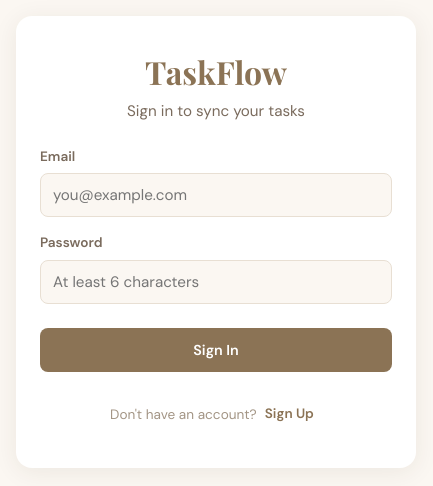
Test: Auth component › shows success message after sign-up
Click the button "Sign Up": {"x": 289, "y": 414} [257,392,322,436]
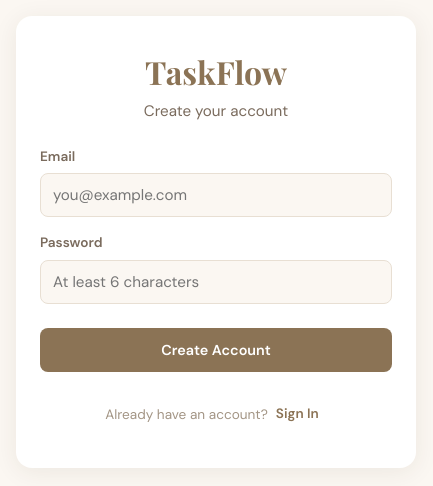
In the field labelled "Email": {"x": 216, "y": 195} [40,173,392,217], type "new@example.com"
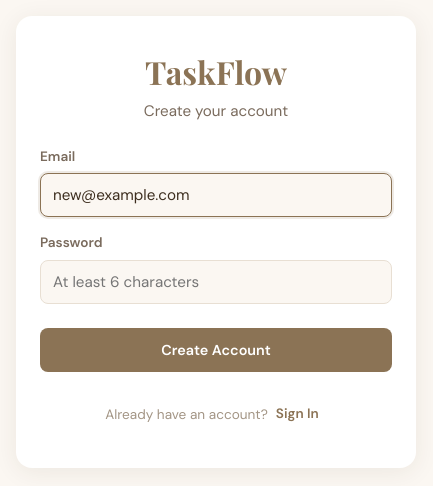
In the password field labelled "Password": {"x": 216, "y": 282} [40,260,392,304], type "password123"
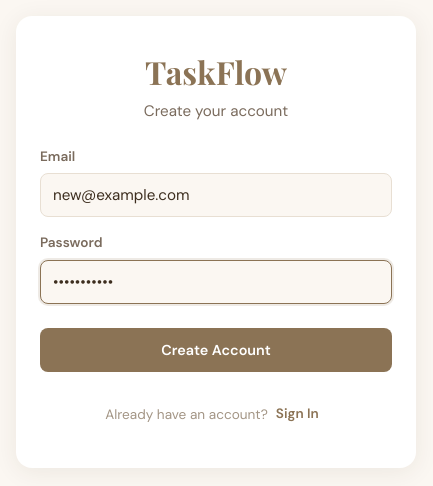
Click the button "Create Account": {"x": 216, "y": 350} [40,328,392,372]
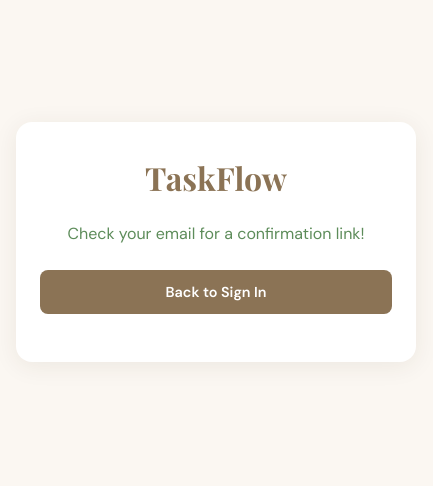
Now the text "Check your email for a confirmation link!" is shown, box [68,223,364,244]
